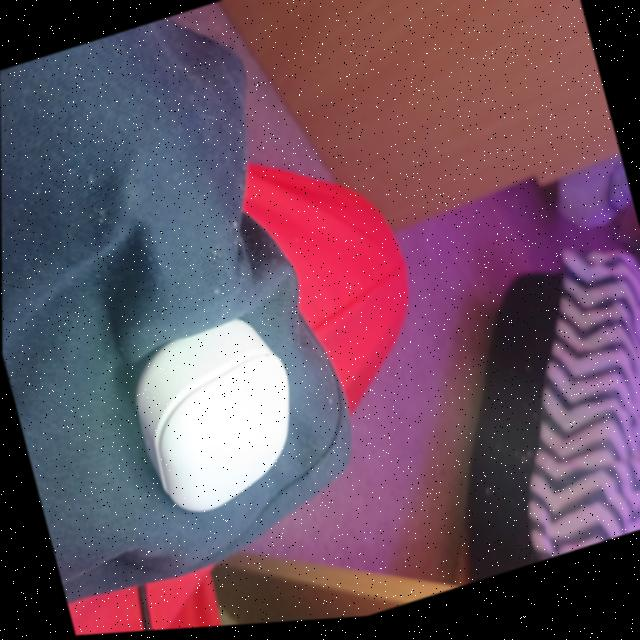headphones: (134, 322, 287, 514)
